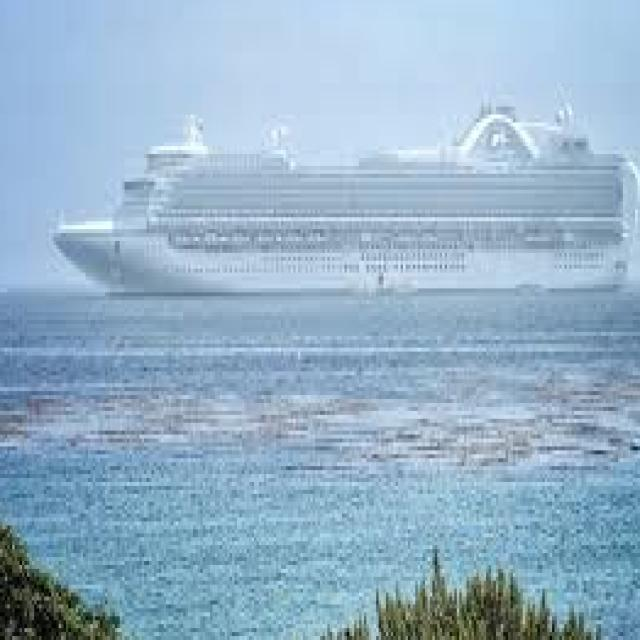passenger ship: (46, 99, 640, 288)
